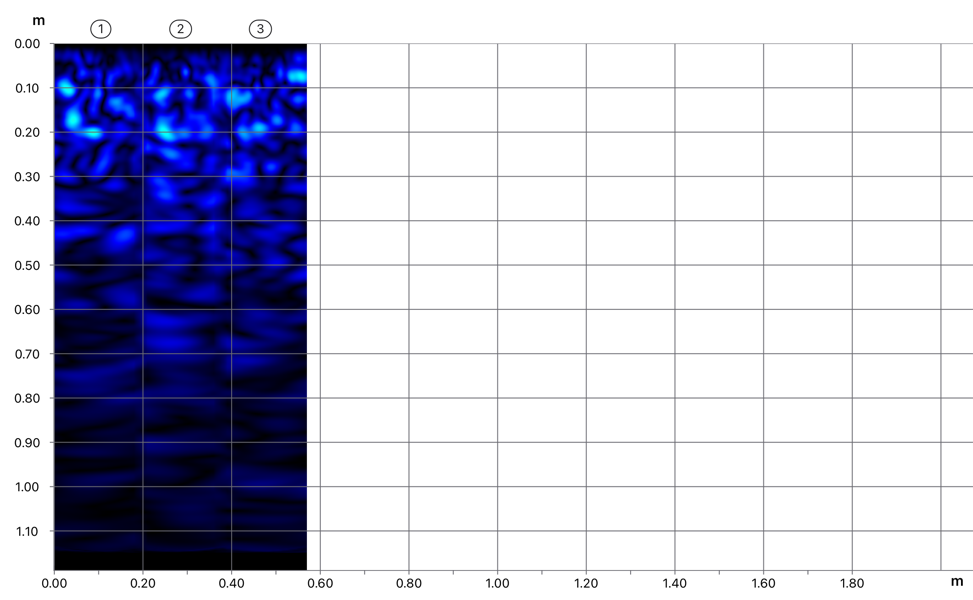crop: (0, 1, 307, 293)
